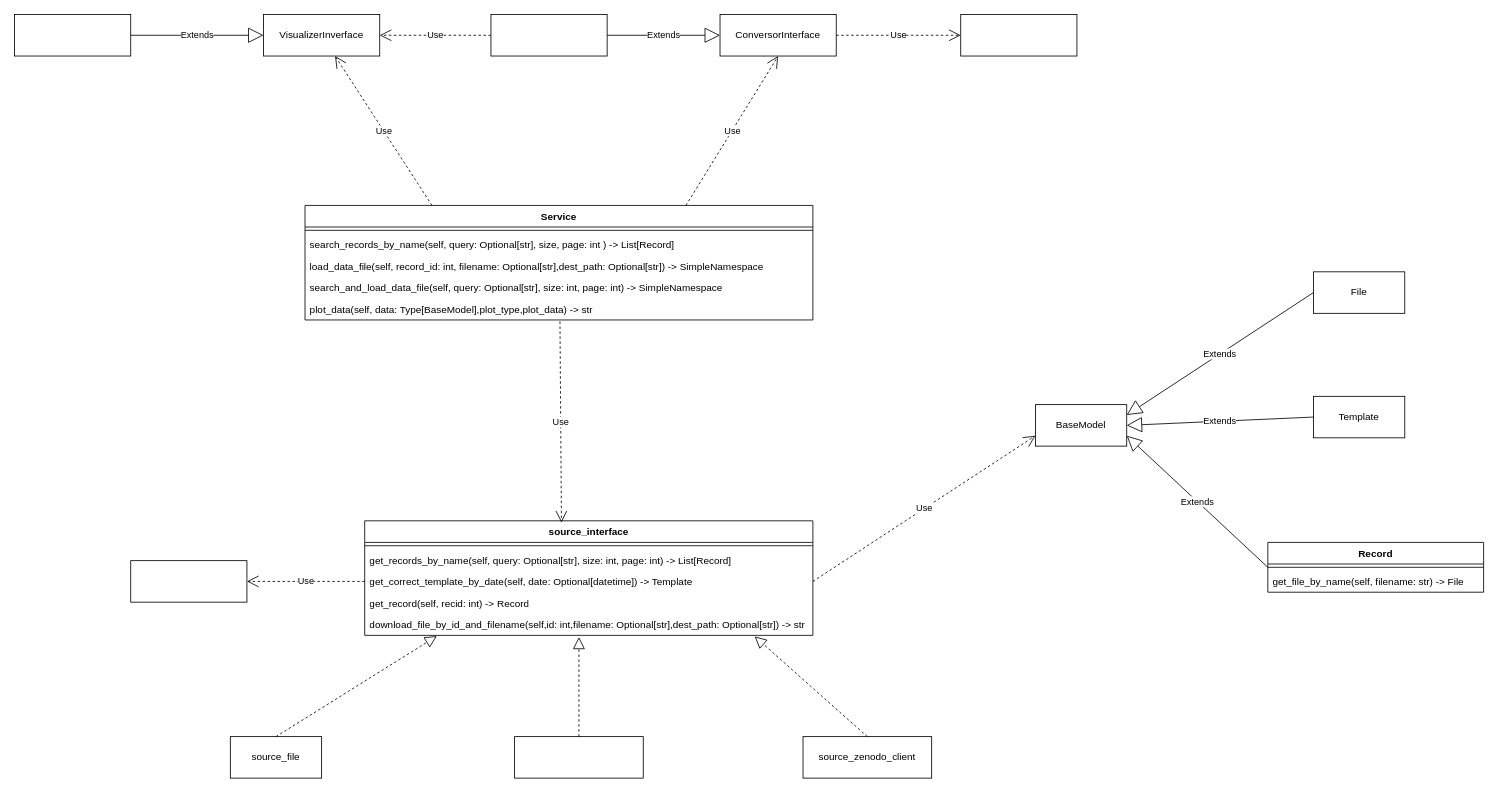
This 1498x793 diagram has some shape labels left out. The shapes that lost their labels are listed below. From the top down, each one's centre as x and y in pixels, then its label:
At point (72, 35): "DataVisualizer".
At point (548, 35): "DynamicConversor".
At point (1018, 35): "ConversorExceptions".
At point (188, 581): "SourceExceptions".
At point (578, 757): "source_zenodo_requests".
